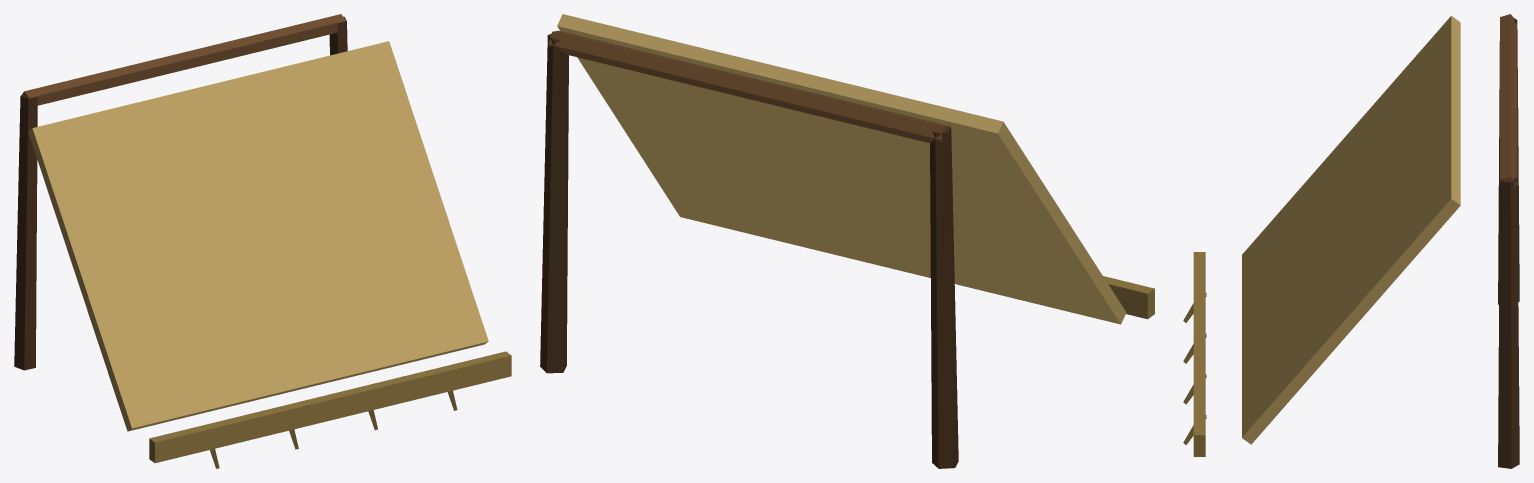
Rendered from prop_camp_lean_to.glb.
3 views of the same model, side by side, from view 1: azimuth 30°, elevation 25°; view 2: azimuth 150°, elevation 25°; view 3: azimuth 270°, elevation 25° (orthographic). The views are drawn at different scales.
Visible parts, largest first — view 1: prop_camp_lean_to; view 2: prop_camp_lean_to; view 3: prop_camp_lean_to.
Boxes of the visible parts, x1,y1,x2,y2 form: prop_camp_lean_to: (14,14,511,468); prop_camp_lean_to: (540,14,1154,468); prop_camp_lean_to: (1183,14,1519,468).
Bounding box in the file's own units: 1.8 × 1.32 × 1.4.
